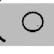no answer: (20, 10, 44, 33)
